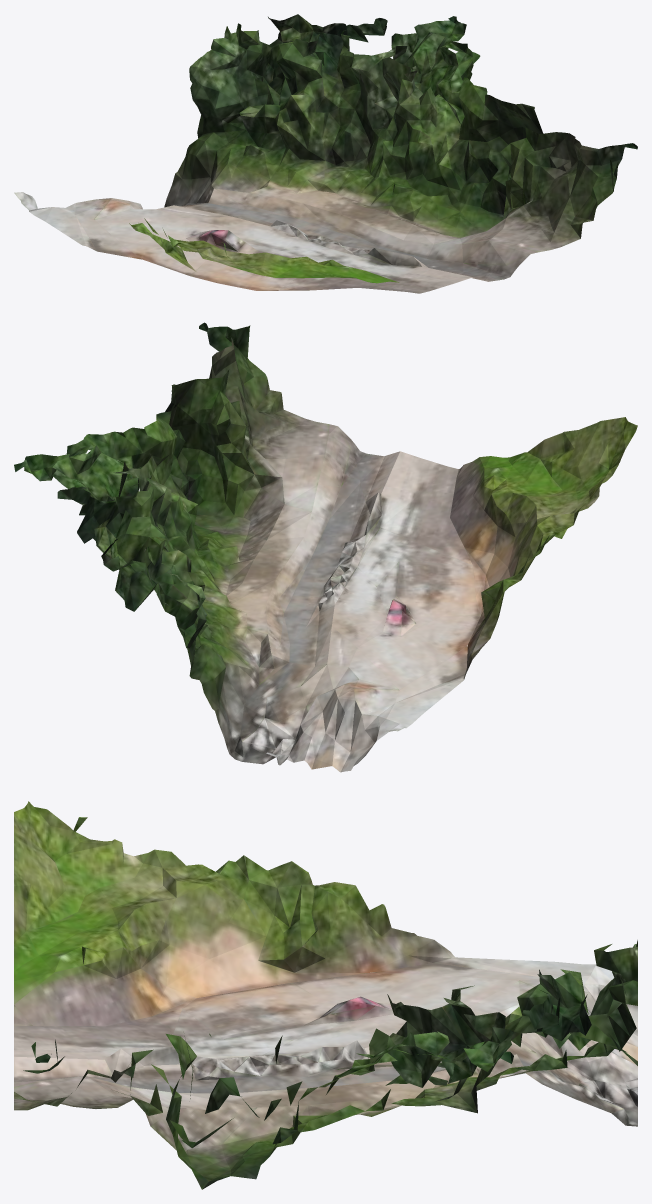
3 views of the same model, one above another, from view 1: azimuth 30°, elevation 25°; view 2: azimuth 150°, elevation 25°; view 3: azimuth 270°, elevation 25° (orthographic). The views are drawn at different scales.
Bounding box in the file's own units: 51.15 × 21.6 × 52.22.
Materials: 3 (3 with a texture image).
